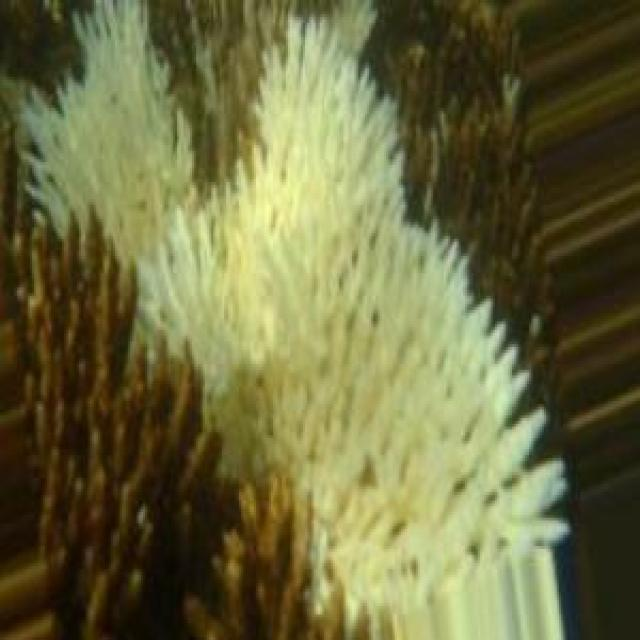Bleached: (219, 183, 566, 638), (142, 18, 404, 351), (17, 2, 195, 260)
